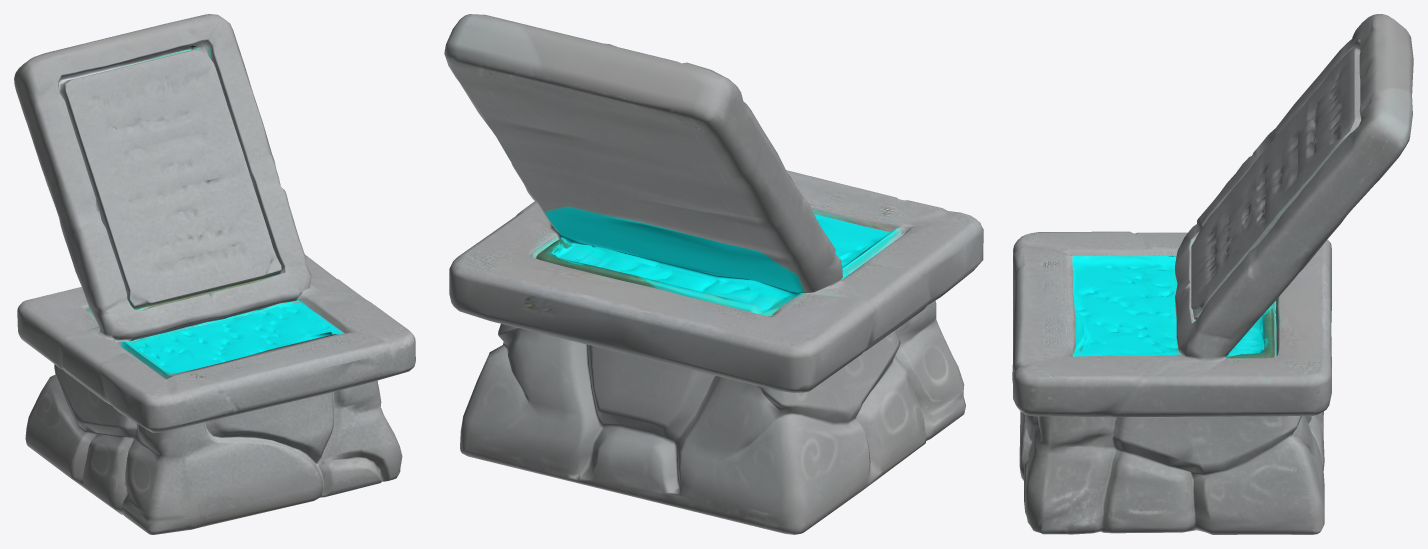
File: chartmaker_stone_v2.glb
3 views of the same model, side by side, from view 1: azimuth 30°, elevation 25°; view 2: azimuth 150°, elevation 25°; view 3: azimuth 270°, elevation 25° (orthographic). The views are drawn at different scales.
Bounding box in the file's own units: 1.52 × 1.91 × 1.71.
Materials: 1 (1 with a texture image).
